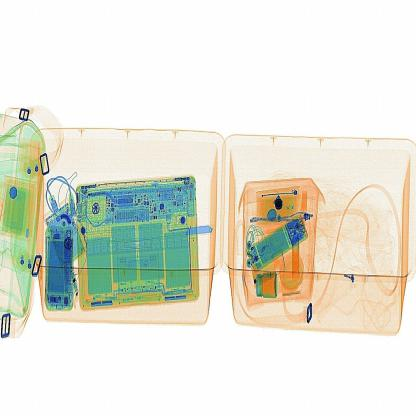pliers: (179, 213, 220, 246)
